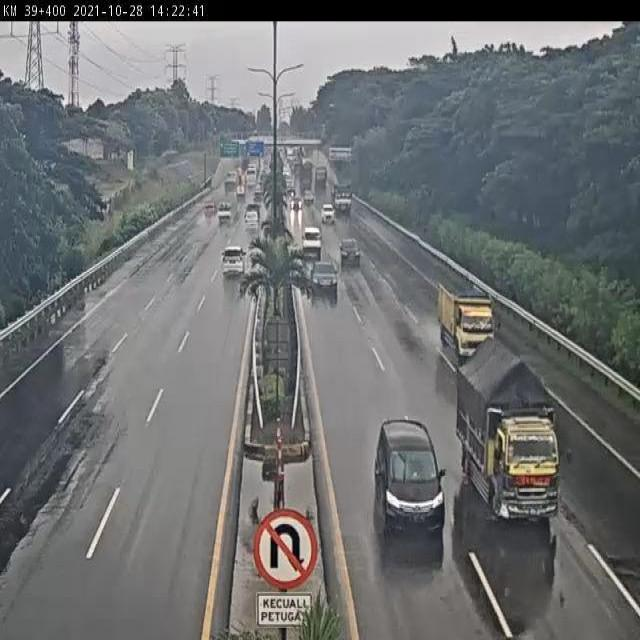truck-s-: (455, 336, 570, 525), (438, 281, 495, 367)
